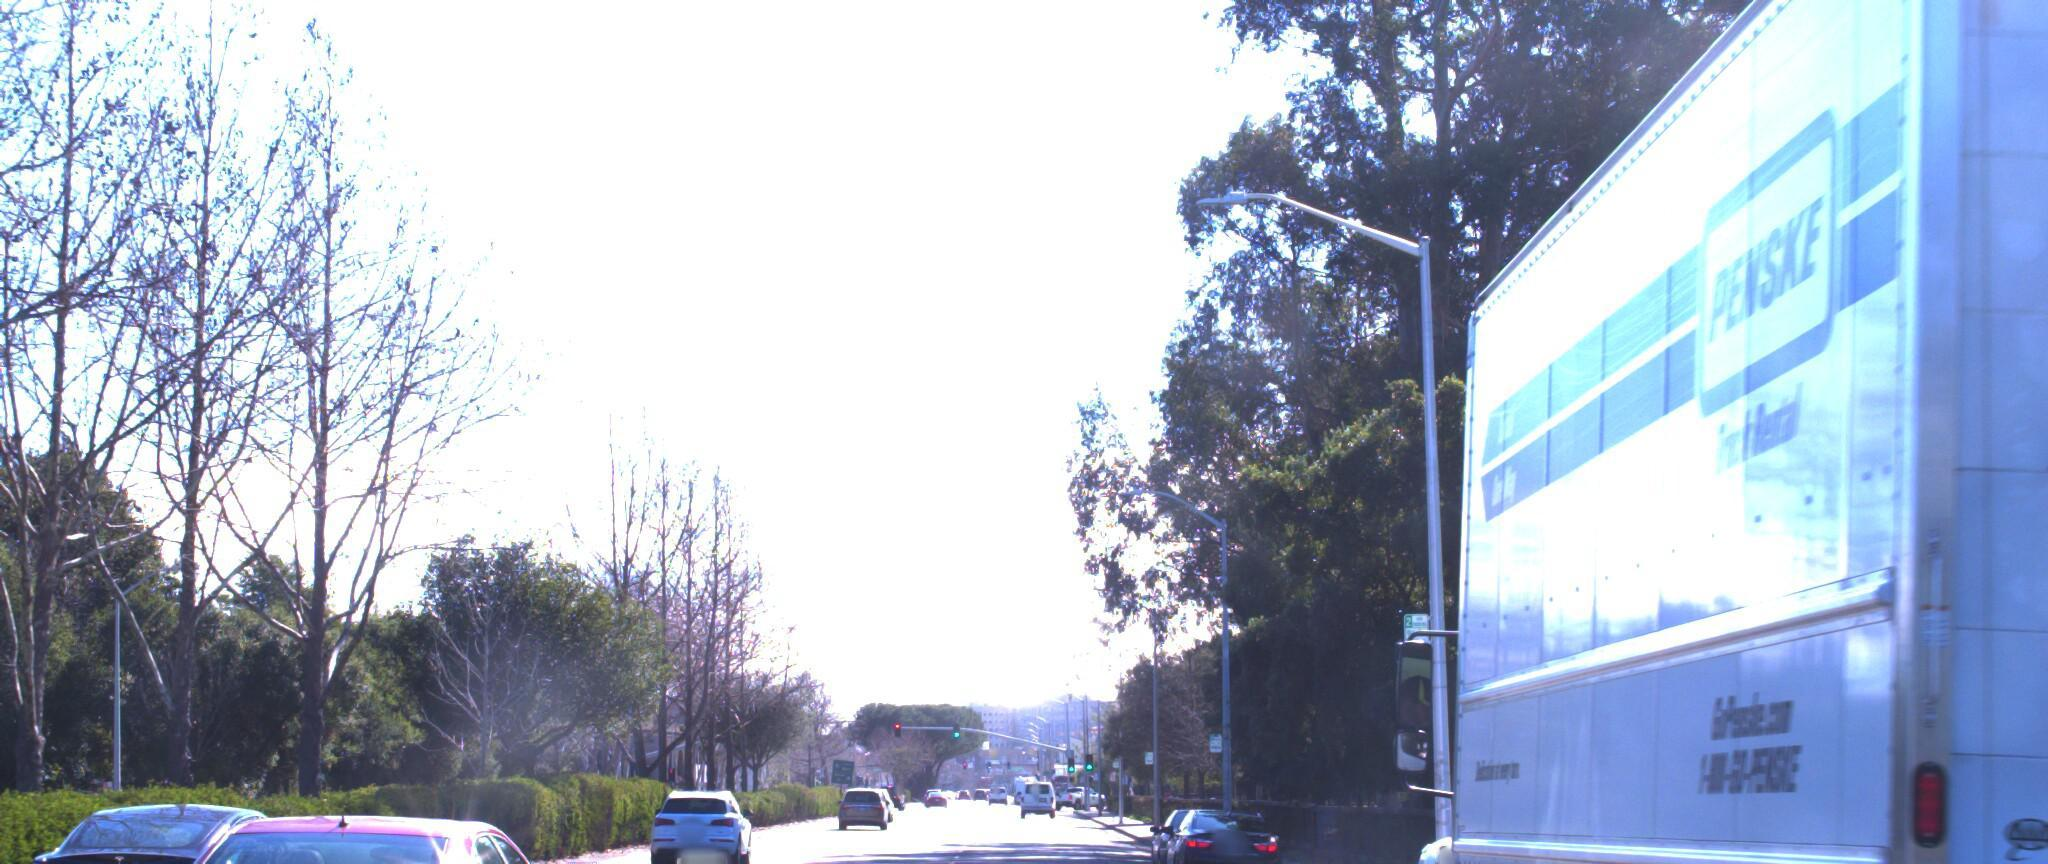car: (71, 775, 613, 864), (0, 762, 334, 864), (1153, 777, 1280, 864), (644, 750, 760, 842)
truck: (1330, 0, 2048, 864)
